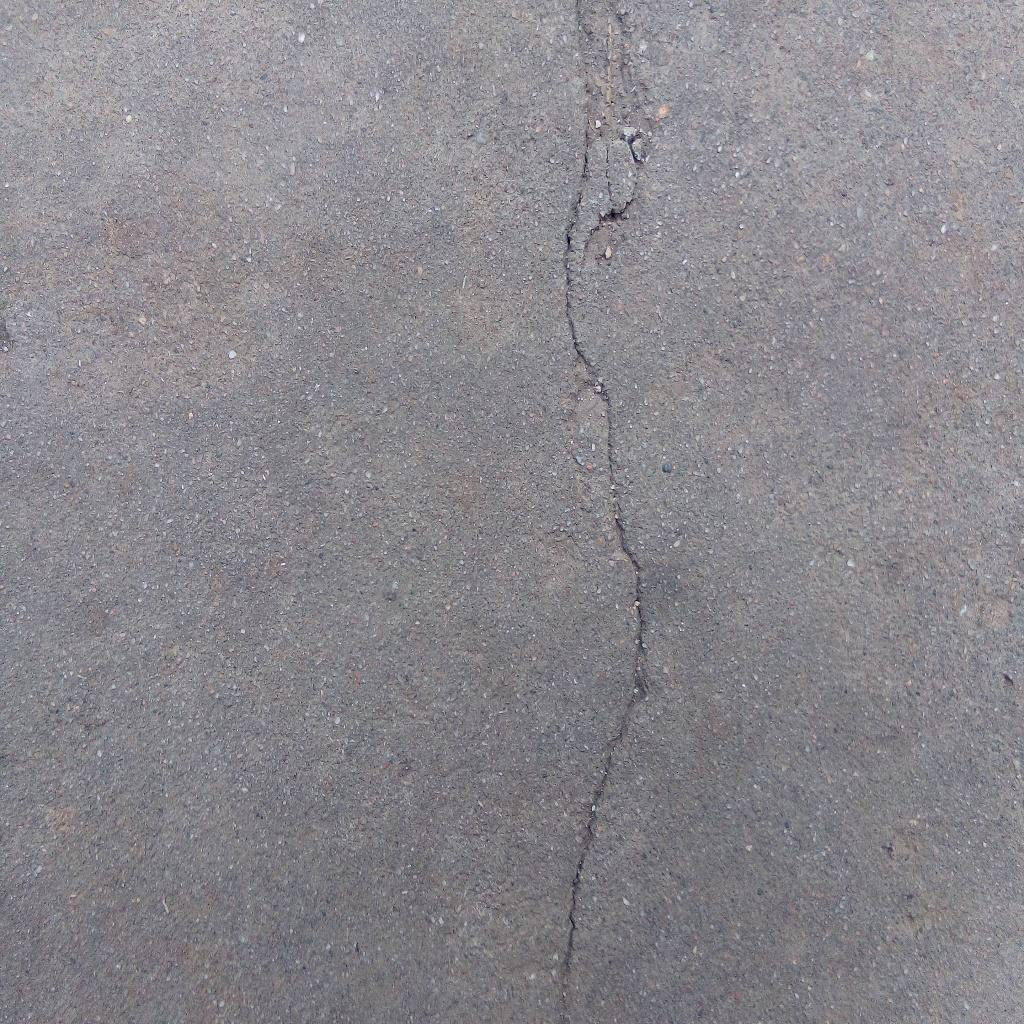Crack: (558, 276, 646, 1024)
Spalling: (563, 1, 654, 276)
